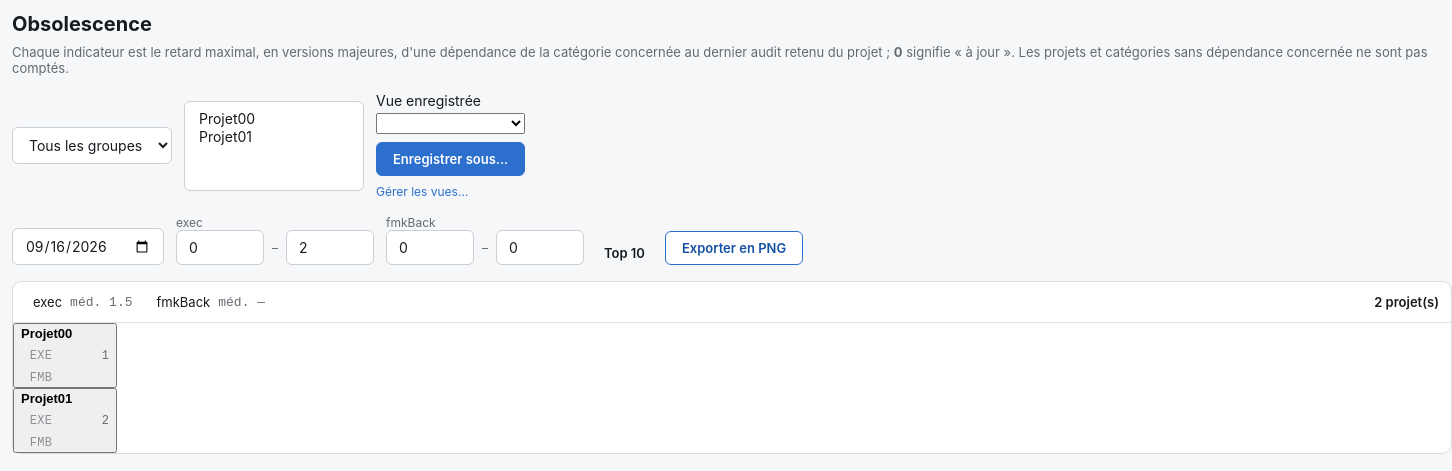
Test: SqmObsolescenceComponent › bouton « Top 10 » (US-065, RG-065, plan_20 Partie F) › bascule via le bouton, avec aria-pressed et un libellé « Top 10 »
Click the button with id "obsolescence-bouton-top10": point(624, 253) [596,241,653,265]
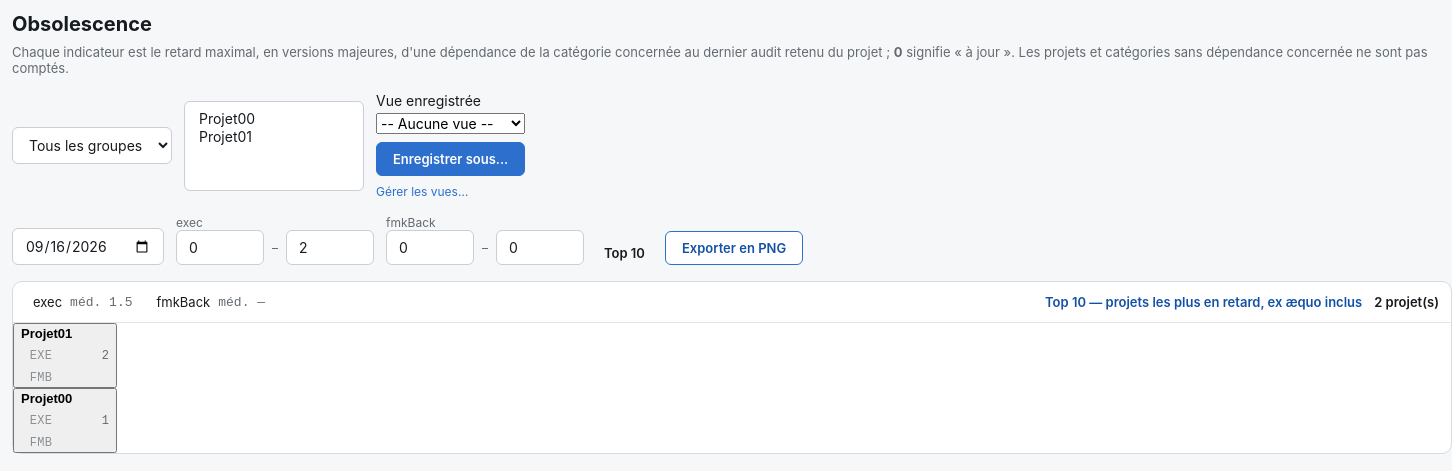
Result: the text "projets les plus en retard" is shown at [1045,294,1362,310]
